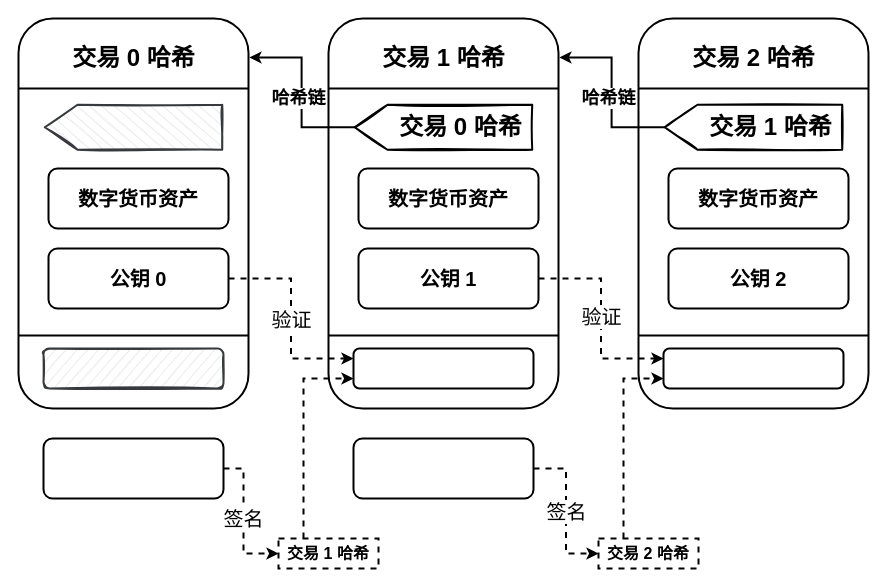
Image size: 887x586. Some labels were removed from this diagram. Each missing label, with the centre of its shape:
私钥 0: the point at 133,468
私钥 1: the point at 443,468
签名 1: the point at 443,368
签名2: the point at 753,368
